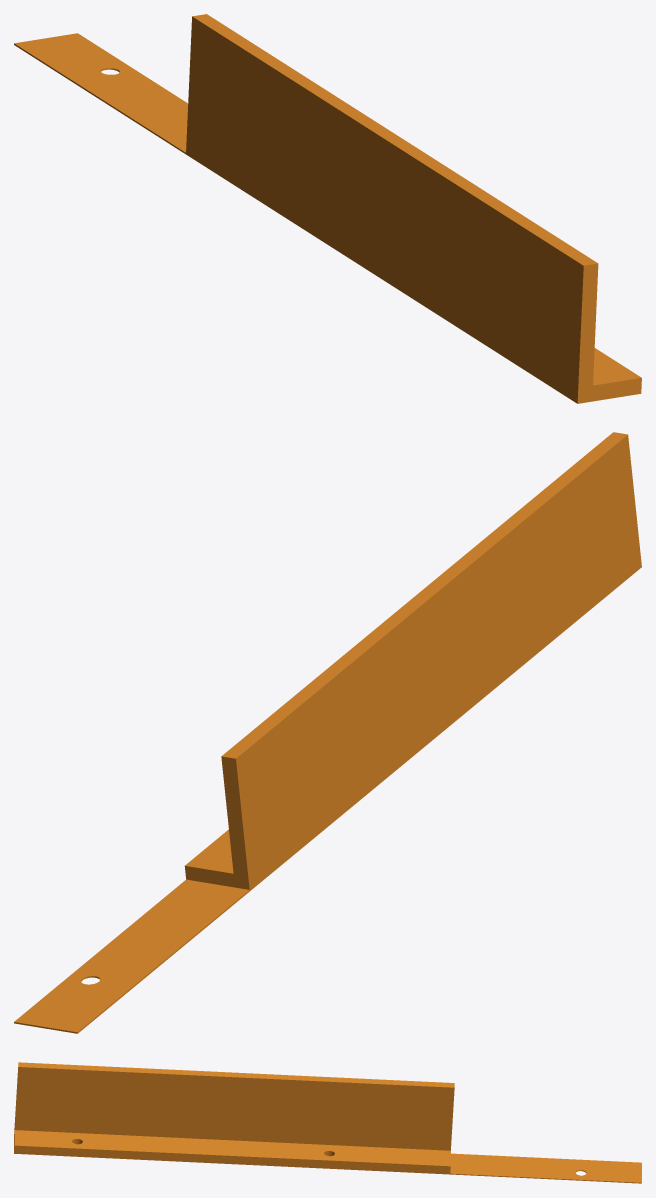
The model's file is bj_borda_e.glb.
3 views of the same model, one above another, from view 1: azimuth 30°, elevation 25°; view 2: azimuth 150°, elevation 25°; view 3: azimuth 270°, elevation 25° (orthographic). The views are drawn at different scales.
Parts seen in each view (by area): view 1: bj_borda_e; view 2: bj_borda_e; view 3: bj_borda_e.
Part boxes in pixels (x1,y1,x2,y2): bj_borda_e: (14,14,641,403); bj_borda_e: (14,432,641,1033); bj_borda_e: (14,1062,641,1183).
Bounding box in the file's own units: 13.2 × 37.33 × 199.
